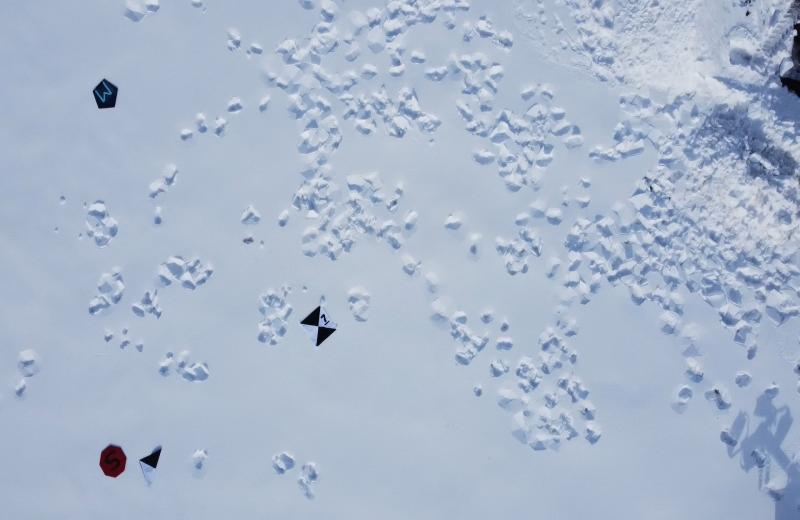Octagon: (99, 445, 128, 480)
Pentagon: (92, 80, 118, 112)
